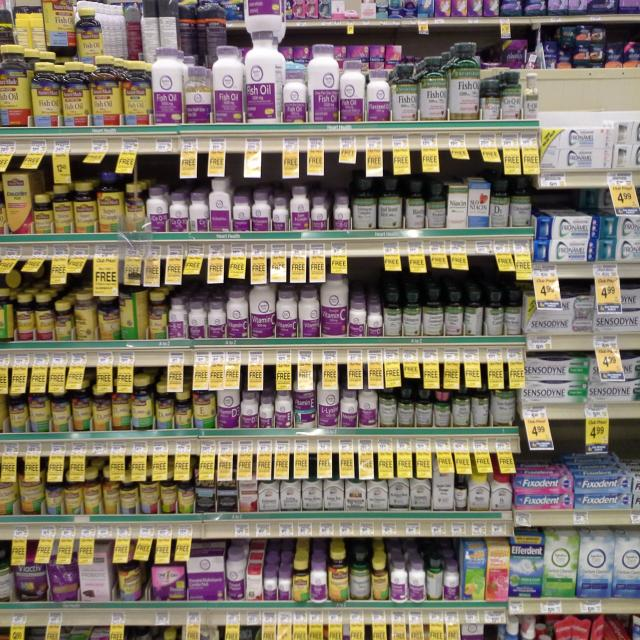unorganised: (483, 289, 524, 338), (116, 287, 146, 341), (404, 177, 426, 231), (74, 293, 95, 339), (465, 291, 483, 339)
